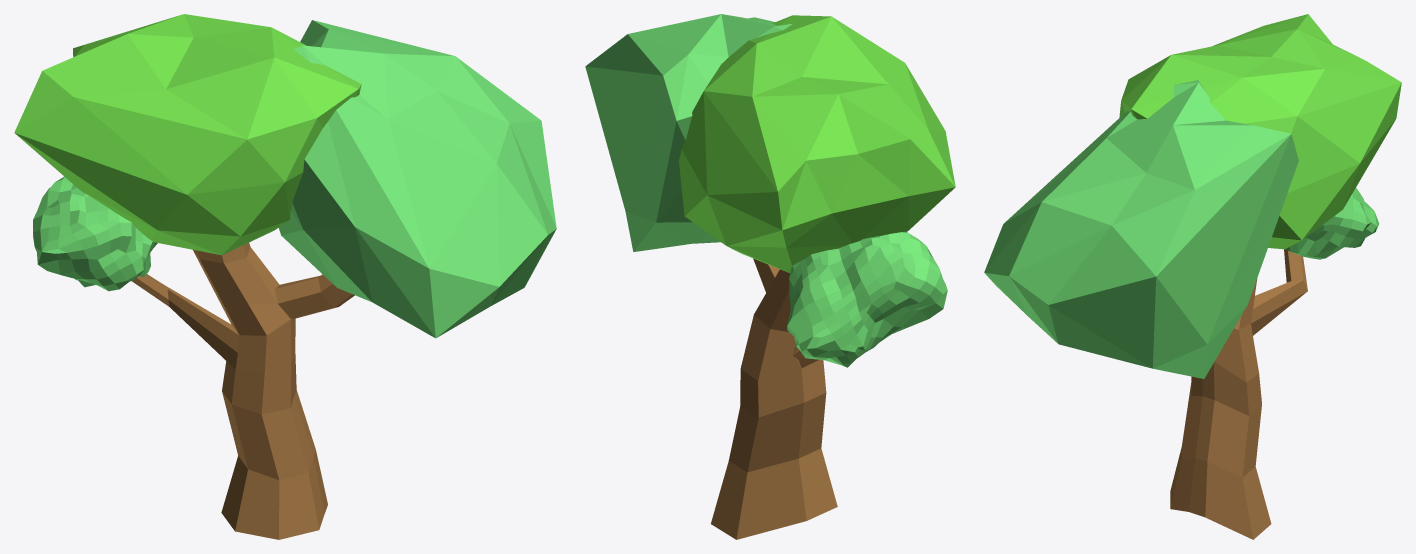
Rendered from LP_TreeGreenBig.fbx.
3 views of the same model, side by side, from view 1: azimuth 30°, elevation 25°; view 2: azimuth 150°, elevation 25°; view 3: azimuth 270°, elevation 25° (orthographic). The views are drawn at different scales.
Parts seen in each view (by area): view 1: TreeBig; view 2: TreeBig; view 3: TreeBig.
Boxes of the visible parts, bbox=[...] form: TreeBig: bbox=[14, 14, 556, 539]; TreeBig: bbox=[585, 14, 955, 539]; TreeBig: bbox=[984, 14, 1401, 539].
Size of the model in its own units: 519 by 550 by 462.
